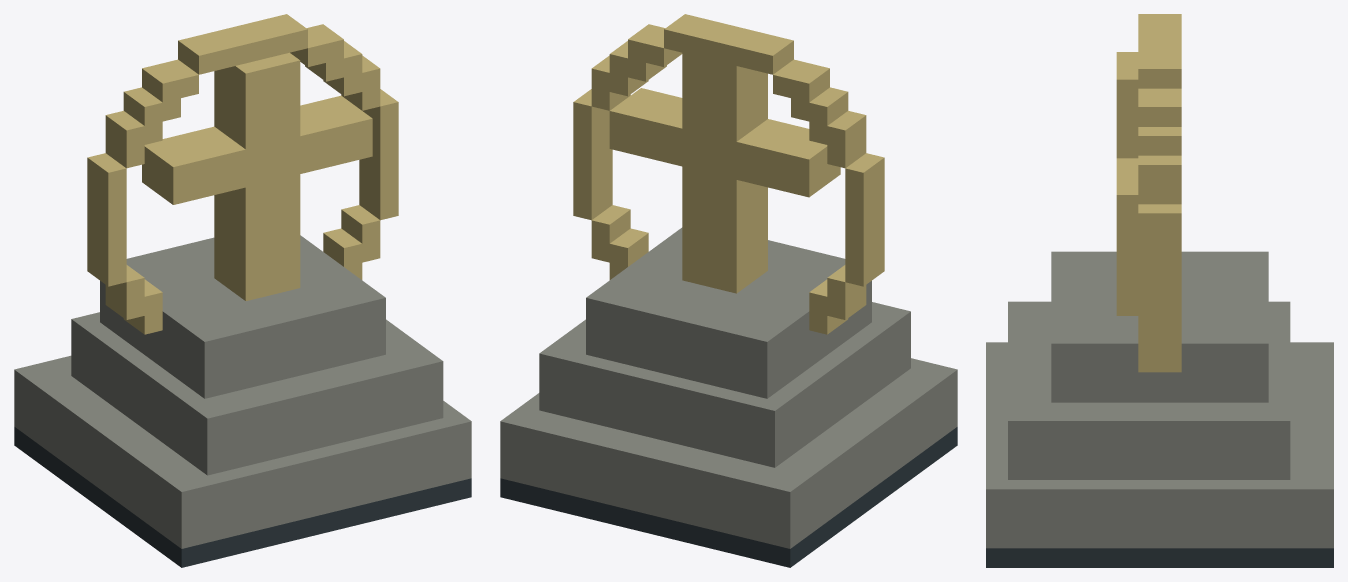
Rendered from relic.glb.
3 views of the same model, side by side, from view 1: azimuth 30°, elevation 25°; view 2: azimuth 150°, elevation 25°; view 3: azimuth 270°, elevation 25° (orthographic). The views are drawn at different scales.
Visible parts, largest first — view 1: relic/housing; view 2: relic/housing; view 3: relic/housing.
Part boxes in pixels (x1=…): relic/housing: x1=14, y1=14, x2=471, y2=567; relic/housing: x1=500, y1=14, x2=957, y2=567; relic/housing: x1=986, y1=14, x2=1333, y2=567.
Size of the model in its own units: 0.5 by 0.7188 by 0.5.
